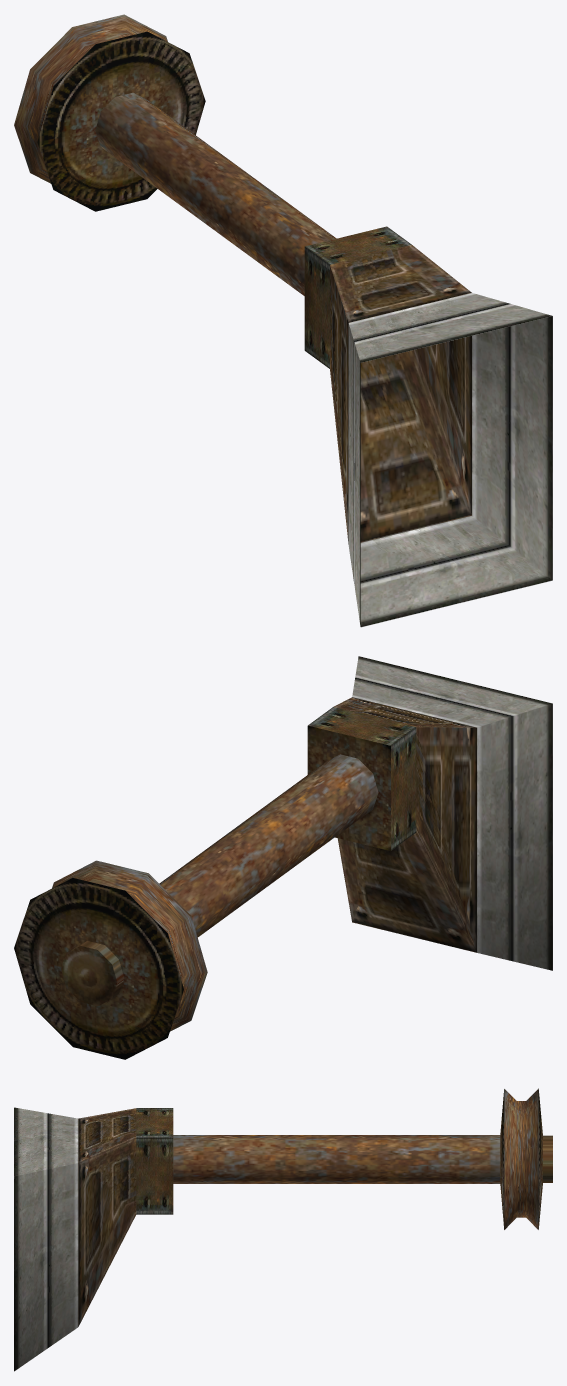
The model's file is DWARF_PALACE_GONDOLA_SUPPORT12.fbx.
3 views of the same model, one above another, from view 1: azimuth 30°, elevation 25°; view 2: azimuth 150°, elevation 25°; view 3: azimuth 270°, elevation 25° (orthographic). The views are drawn at different scales.
Visible parts, largest first — view 1: DWARF_PALACE_GONDOLA_SUPPORT12; view 2: DWARF_PALACE_GONDOLA_SUPPORT12; view 3: DWARF_PALACE_GONDOLA_SUPPORT12.
Part boxes in pixels (x1,y1,x2,y2): DWARF_PALACE_GONDOLA_SUPPORT12: (14,14,552,627); DWARF_PALACE_GONDOLA_SUPPORT12: (14,656,552,1059); DWARF_PALACE_GONDOLA_SUPPORT12: (14,1088,552,1371).
Bounding box in the file's own units: 9972 × 16021 × 32816.
6 materials, 6 textured.
